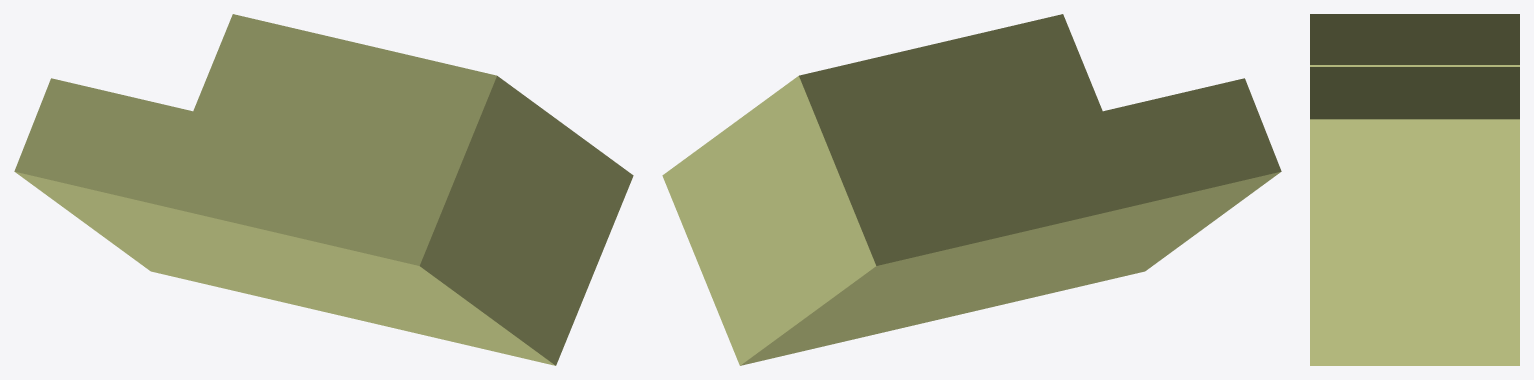
The picture shows the model from 3 angles, left to right: view 1: azimuth 30°, elevation 25°; view 2: azimuth 150°, elevation 25°; view 3: azimuth 270°, elevation 25°; orthographic projection. The views are drawn at different scales.
Parts seen in each view (by area): view 1: 0_1_0_0_1_0_3_0_0_0_1; view 2: 0_1_0_0_1_0_3_0_0_0_1; view 3: 0_1_0_0_1_0_3_0_0_0_1.
Part boxes in pixels (box(x1,y1,x2,y2)): 0_1_0_0_1_0_3_0_0_0_1: box(14, 14, 633, 365); 0_1_0_0_1_0_3_0_0_0_1: box(662, 14, 1281, 365); 0_1_0_0_1_0_3_0_0_0_1: box(1310, 14, 1519, 365).
Bounding box in the file's own units: 12.26 × 7.22 × 6.
